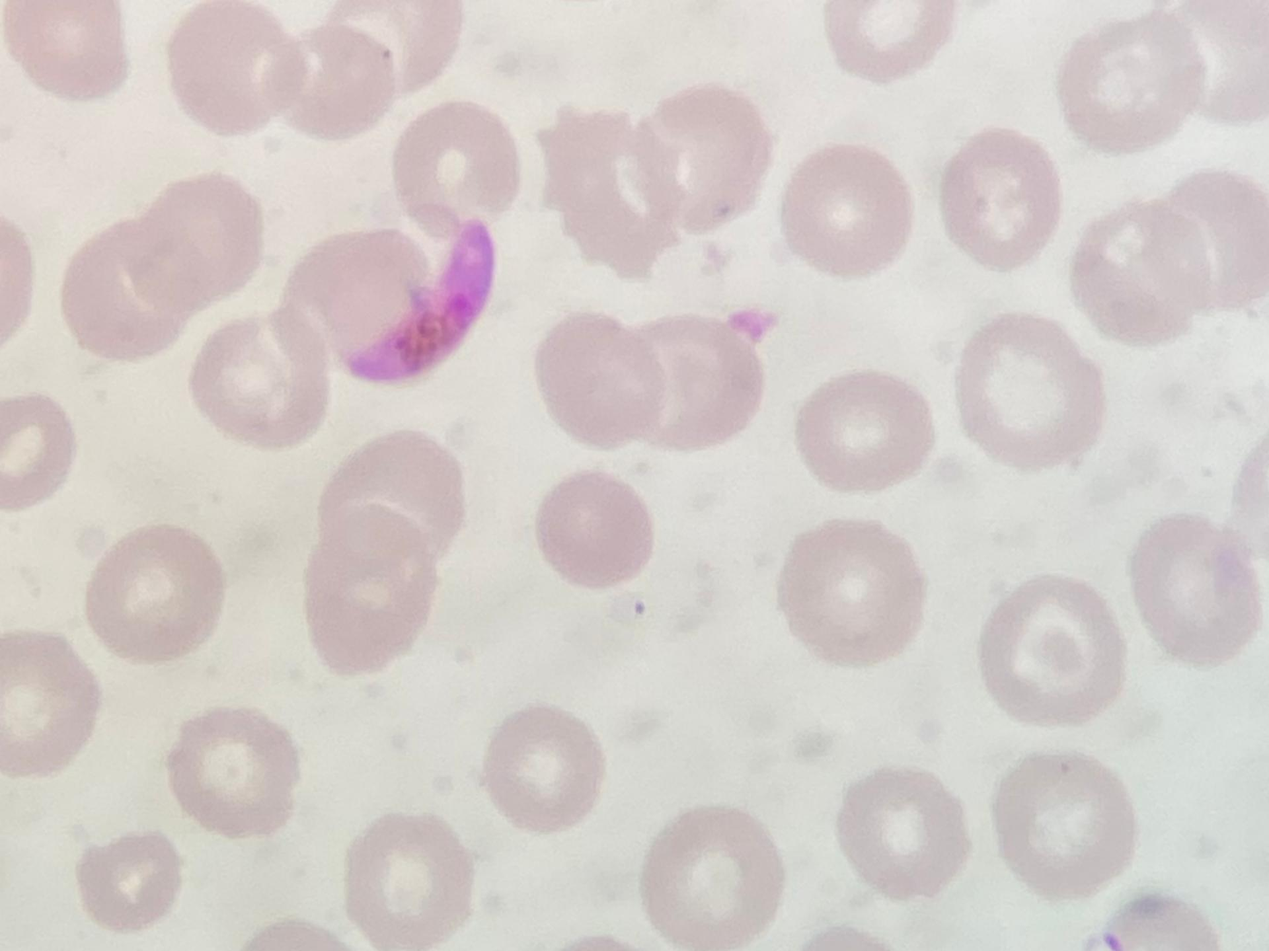Infected: (348, 223, 495, 383)
Uninfected: (536, 108, 686, 270), (303, 504, 443, 671), (953, 316, 1103, 467), (778, 520, 929, 666), (978, 577, 1126, 724), (992, 752, 1132, 898), (282, 229, 431, 366), (317, 431, 467, 565), (639, 807, 782, 947), (1059, 13, 1204, 151), (1127, 515, 1259, 665), (85, 524, 225, 664), (164, 1, 307, 137), (638, 86, 771, 231), (188, 315, 330, 449), (533, 309, 664, 452), (624, 315, 764, 448), (834, 766, 970, 901), (59, 226, 192, 361), (1072, 207, 1203, 342), (167, 707, 300, 839), (344, 814, 475, 948), (779, 144, 913, 274), (132, 174, 264, 305), (1152, 171, 1269, 316), (793, 371, 934, 490), (939, 130, 1063, 265), (388, 101, 519, 227), (481, 706, 601, 831), (535, 471, 654, 588), (2, 635, 99, 774), (282, 24, 398, 138), (1173, 1, 1269, 124), (77, 832, 180, 932), (1, 393, 77, 507)
